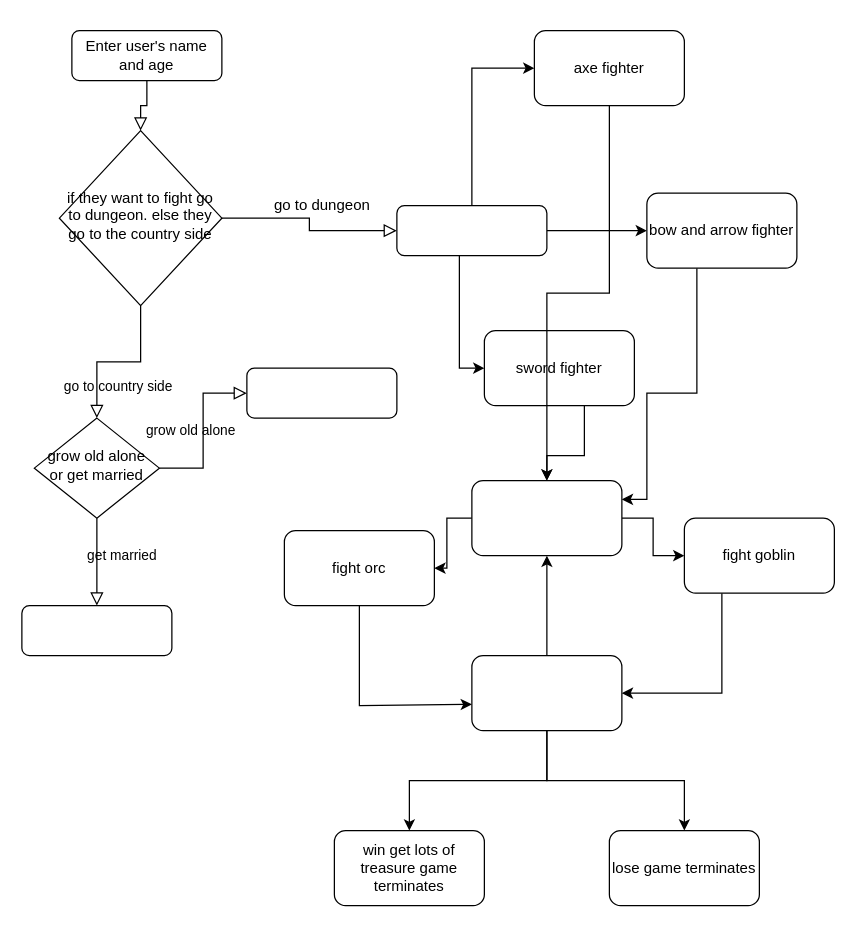
The diagram is 856 pixels wide and 928 high, and some of its shapes have lost their labels. Each missing label, with the centre of its shape:
"choose to fight or run" belongs at [546,692].
"fight orcs or fight goblins" belongs at [546,517].
"select a weapon using weapon string" belongs at [471,230].
"you die alone filled with regret game terminates." belongs at [321,392].
"you live happily ever after game terminates." belongs at [96,630].
